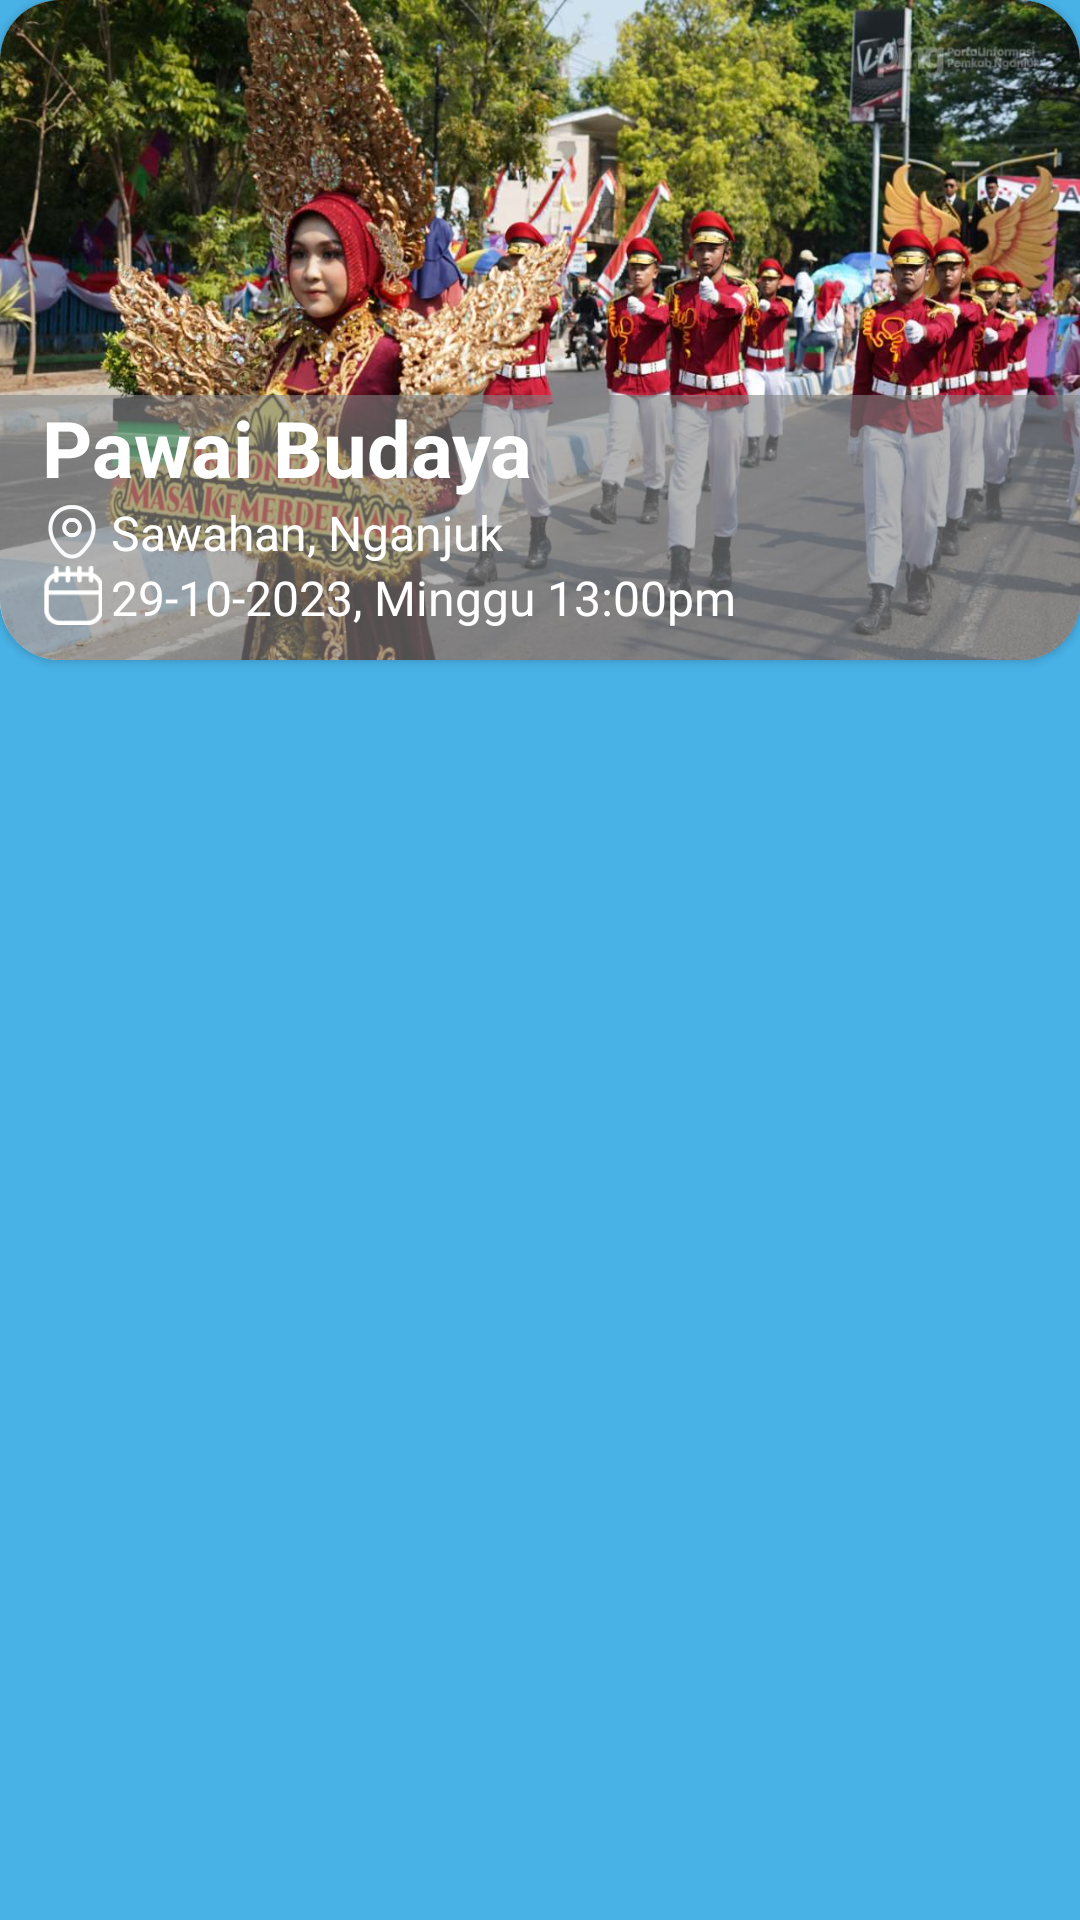

Screen size 1080x1920. Icon name, then its center in pixels as (x,y):
locationnew: (72,530)
